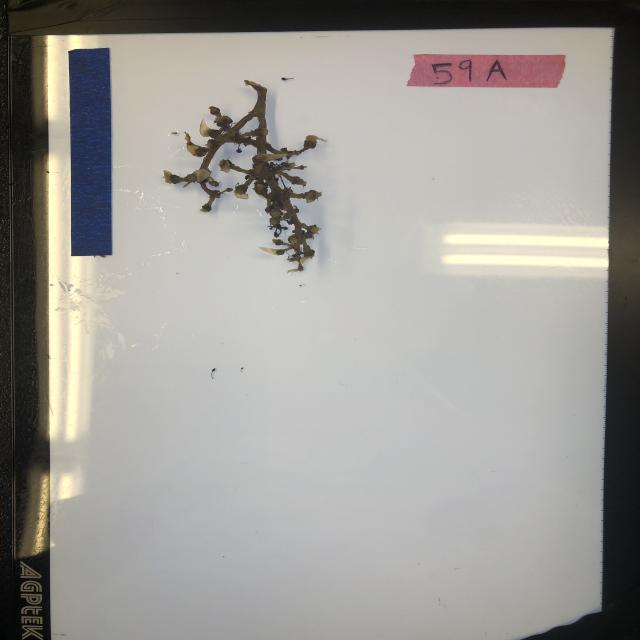index: (406, 53, 566, 90)
measure_label: (68, 48, 114, 256)
rachis_cluster: (155, 77, 328, 276)
